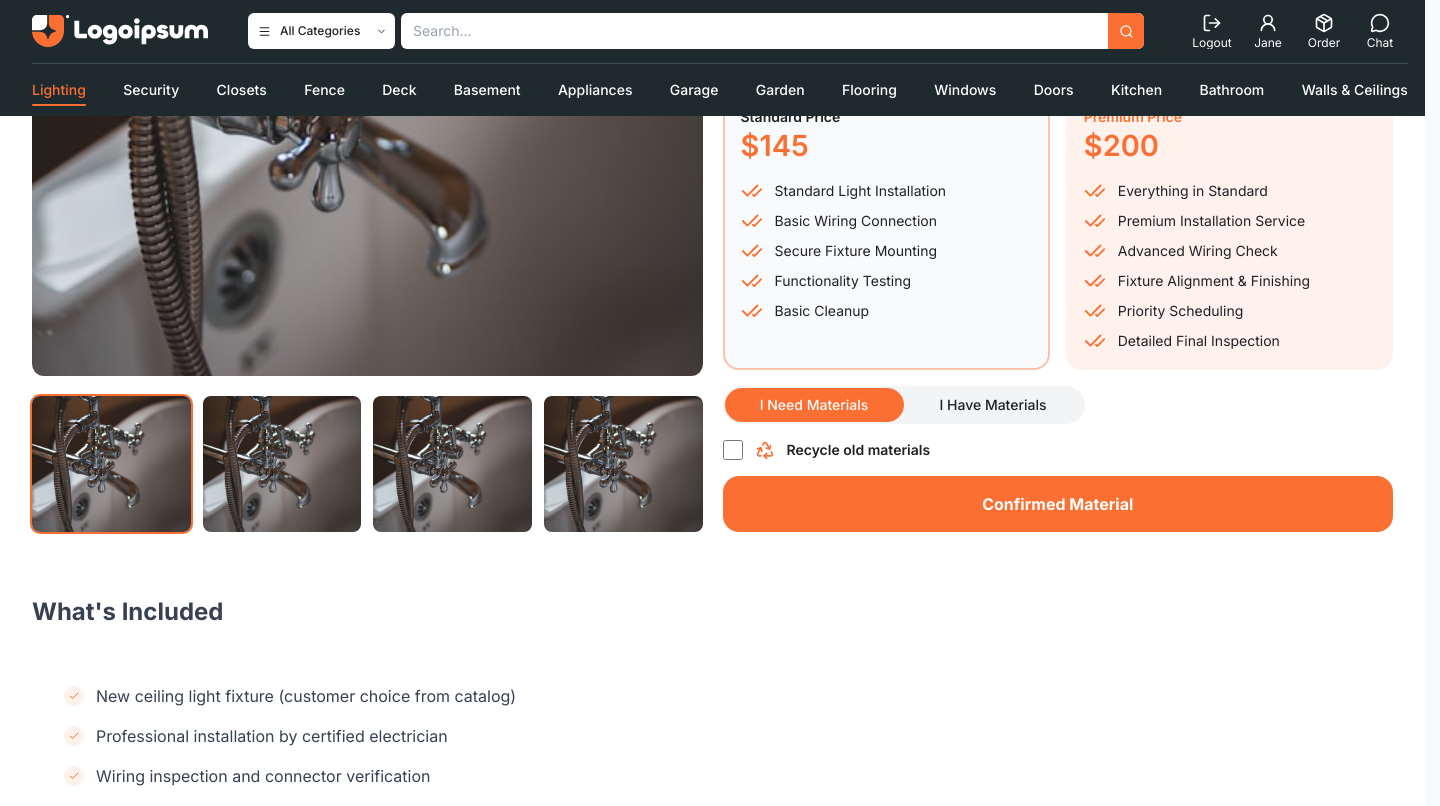
Scenario: Service details page › redirects a logged-in user to checkout when they confirm with I Have Materials
(page scrolled)
What coordinates should you click on to do the following:
click the button "I Have Materials"
I would click on:
 (993, 405)
Its box is [904, 388, 1082, 422].
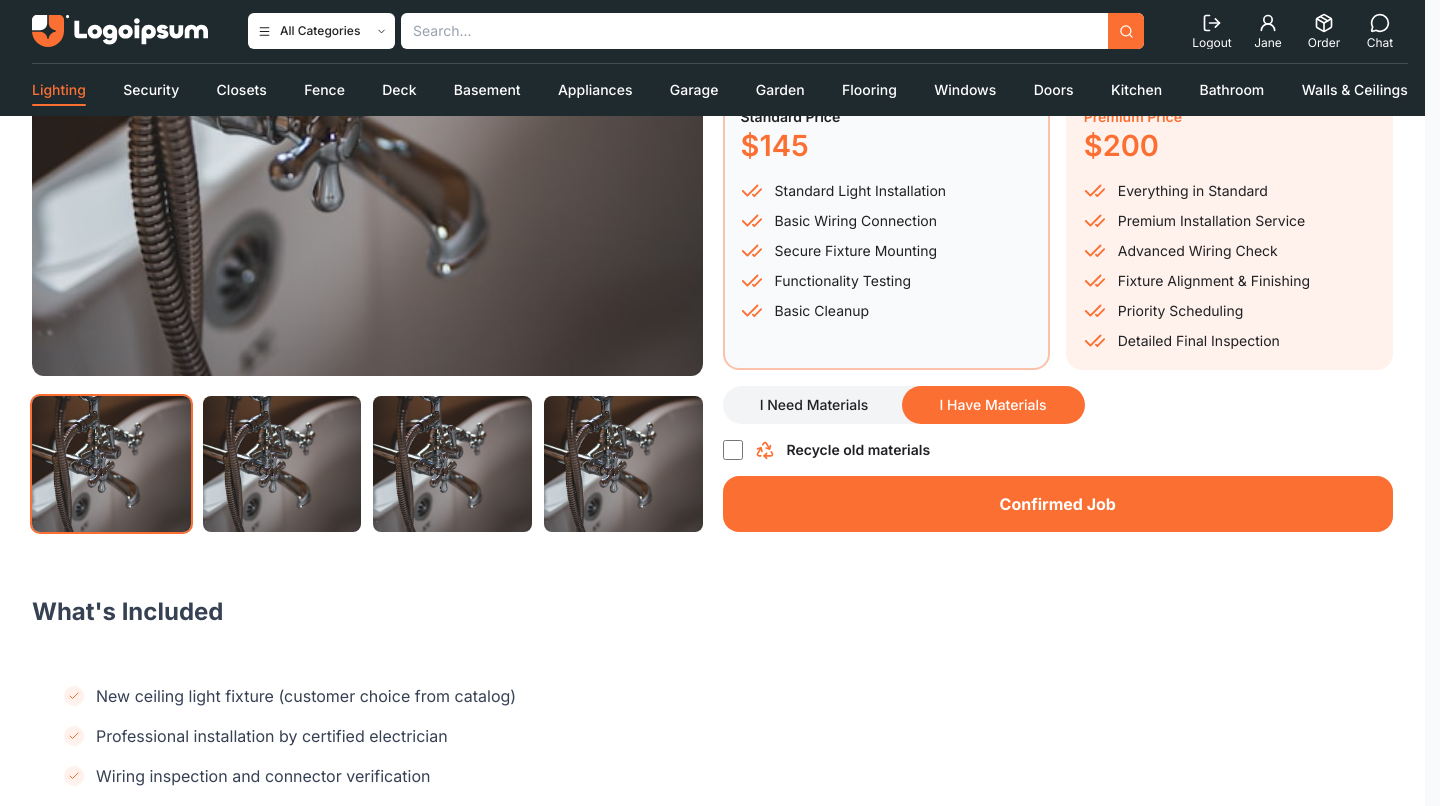
What coordinates should you click on to do the following:
click the button "Confirmed Job"
I would click on:
 (1058, 504)
Its box is [722, 476, 1393, 532].
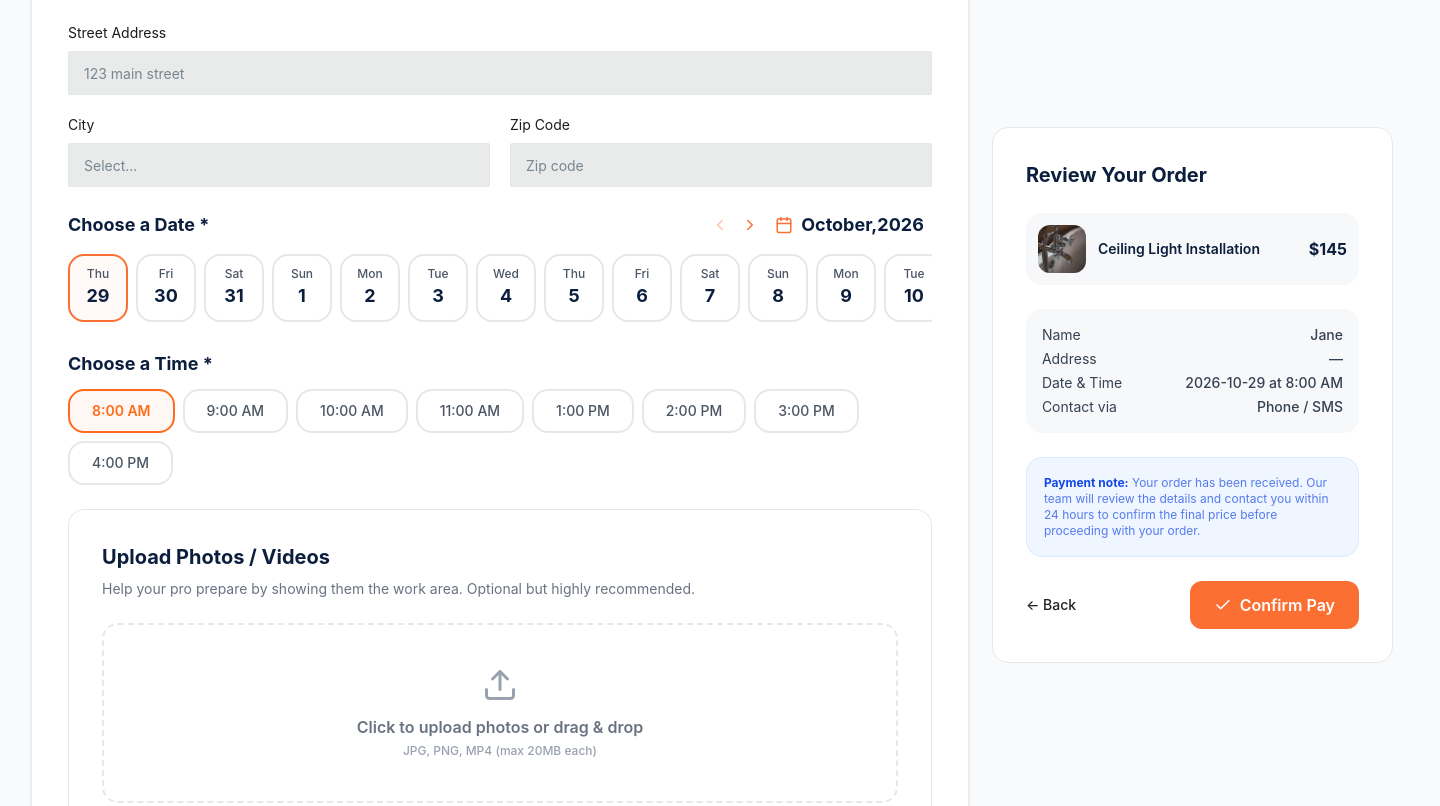
Expected: the heading "Review Your Order" is shown, [1026, 163, 1207, 187]
